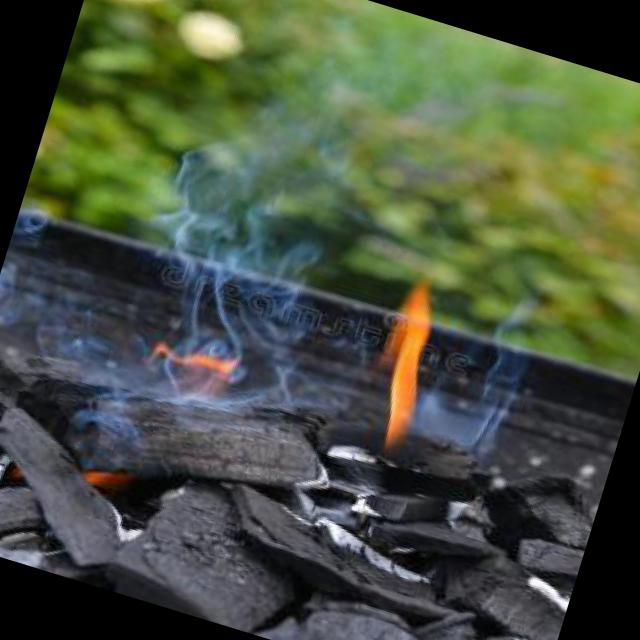fire: (326, 245, 472, 456)
smoke: (62, 0, 433, 508), (410, 261, 584, 492)
